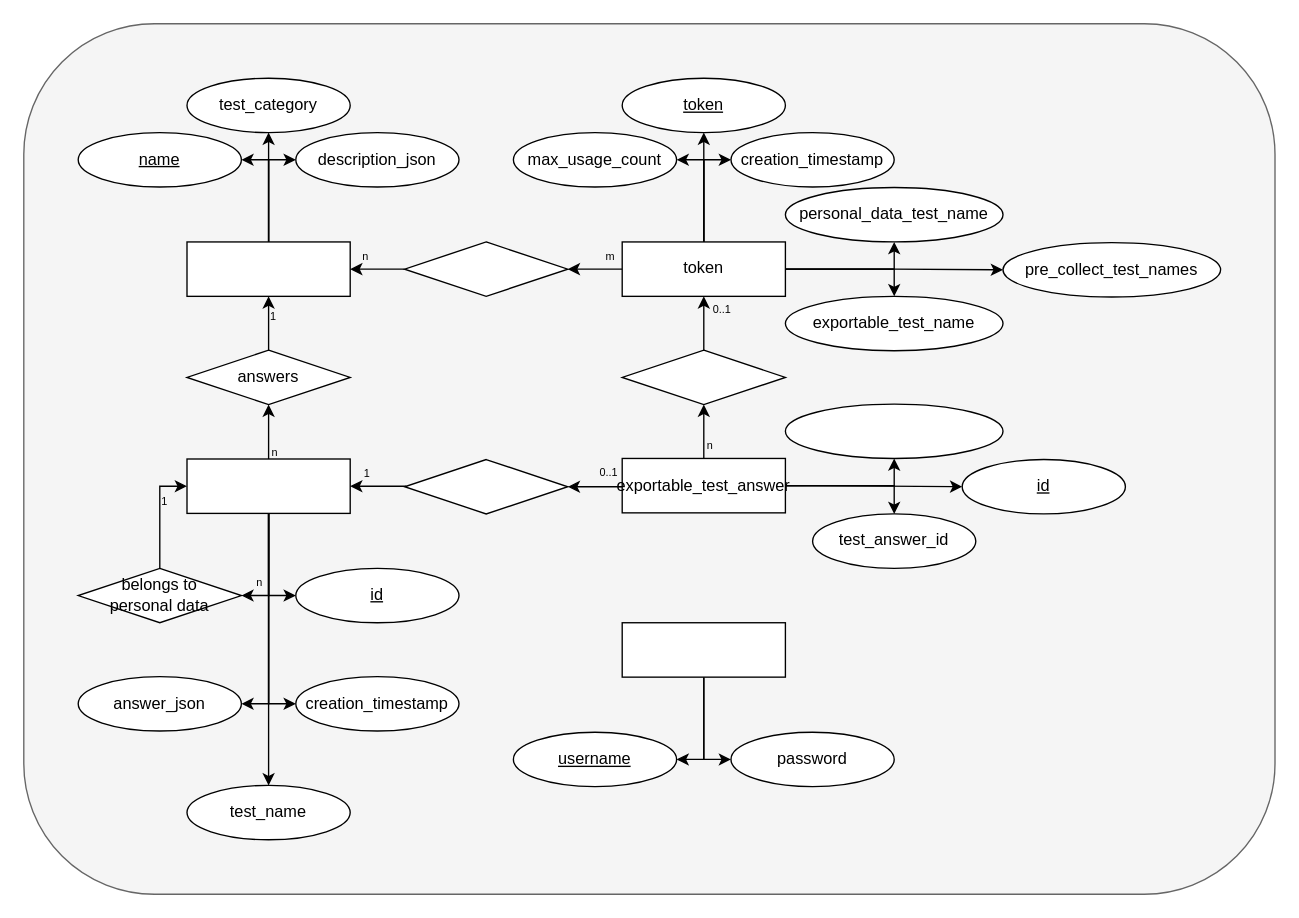
Some shapes in this 1299 by 918 pixel diagram are drawn without their labels. The box of each missing label's shape, as (x1, y1, x2, y2) in pixels:
evaluated with: (621, 349, 785, 405)
extends: (403, 458, 568, 514)
grants access to: (403, 241, 568, 296)
test: (186, 241, 350, 296)
test_answer: (186, 458, 350, 513)
token_creator: (621, 621, 785, 677)
was_saved_with_token: (784, 403, 1003, 458)
